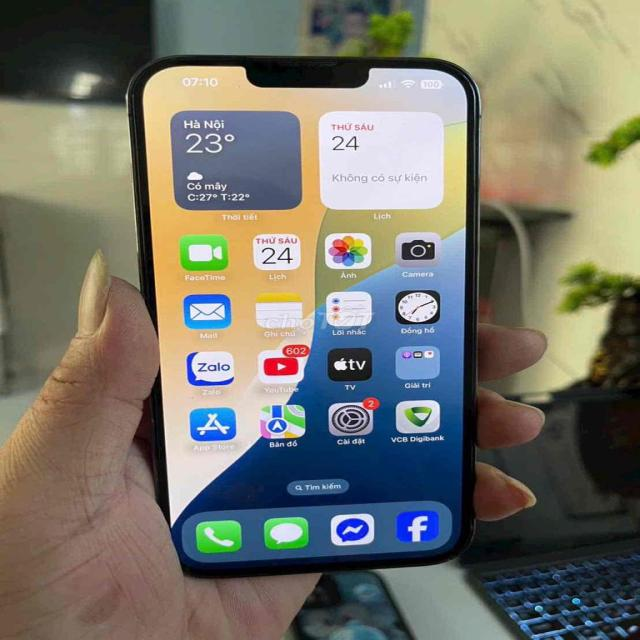gen_12_13: (120, 48, 480, 579)
